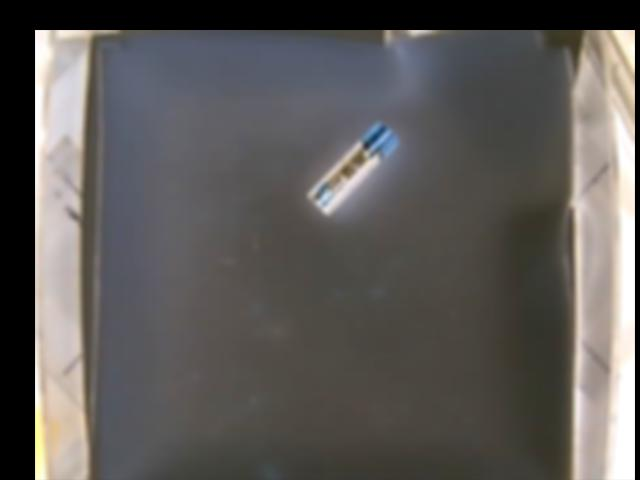Battery: (305, 120, 399, 215)
